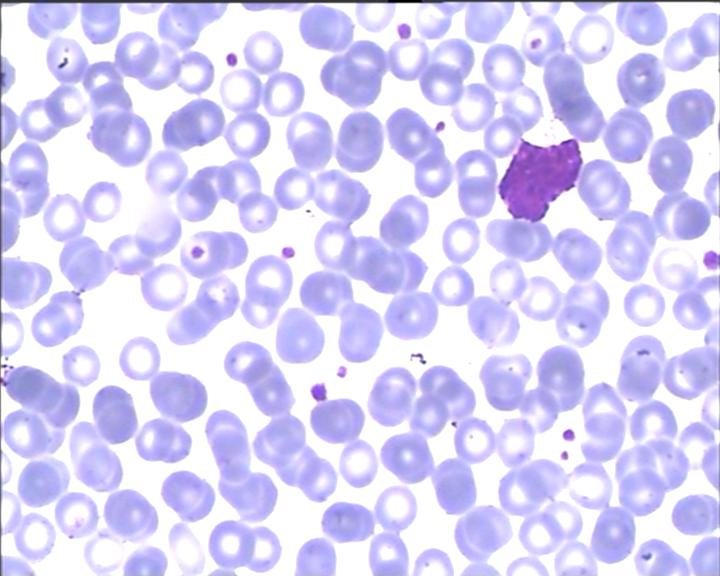baso: (493, 120, 585, 226)
